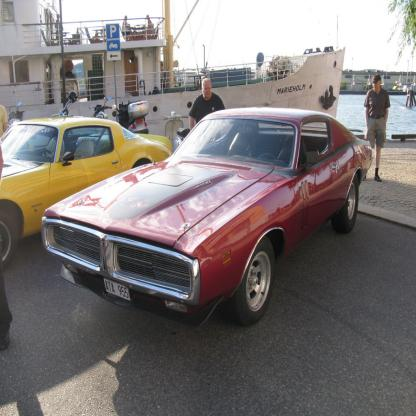Car: (41, 105, 376, 326), (1, 117, 175, 265)
